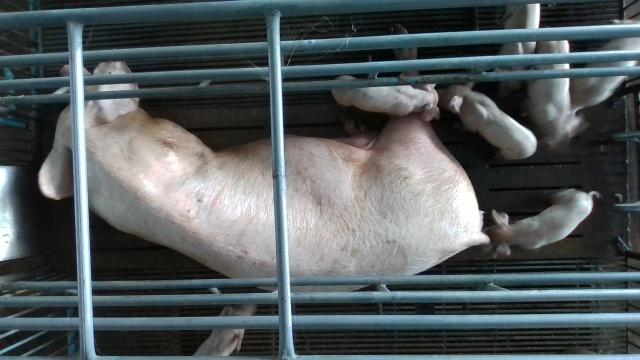piglet: (492, 188, 601, 260), (447, 82, 538, 160), (572, 20, 640, 111), (528, 39, 582, 149), (330, 74, 438, 121), (494, 4, 541, 72), (192, 306, 249, 356)
sow-sit: (37, 61, 491, 294)
